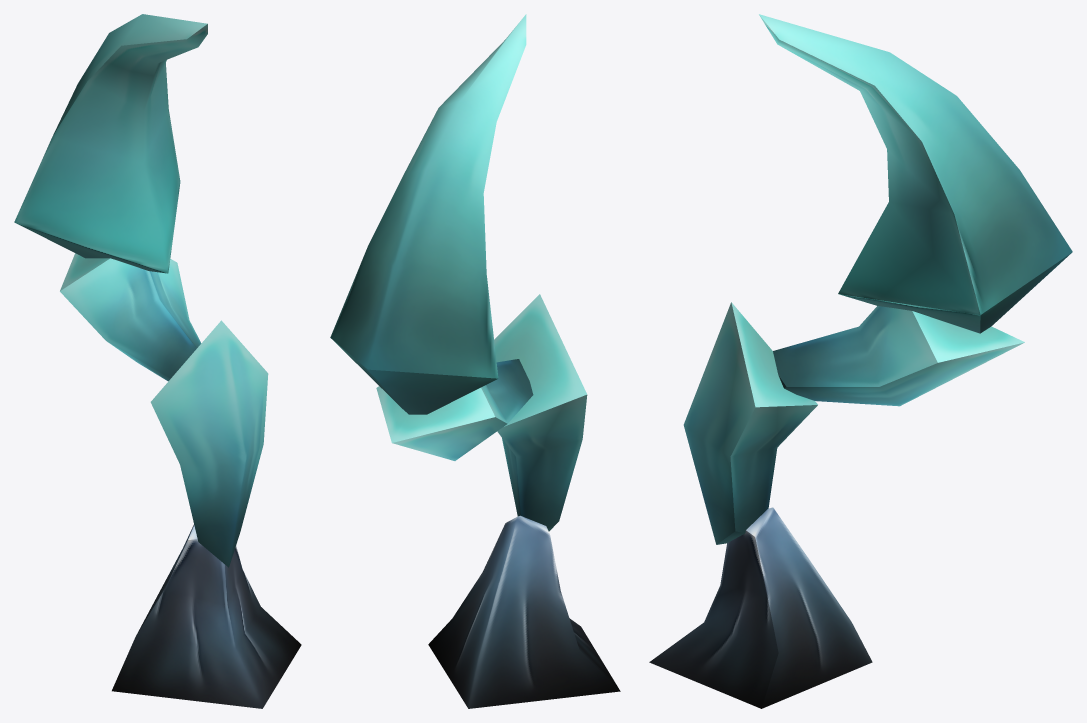
File: DragonVillage_Prop_07.FBX
The picture shows the model from 3 angles, left to right: view 1: azimuth 30°, elevation 25°; view 2: azimuth 150°, elevation 25°; view 3: azimuth 270°, elevation 25°; orthographic projection.
Parts seen in each view (by area): view 1: DragonVillage_Prop_07; view 2: DragonVillage_Prop_07; view 3: DragonVillage_Prop_07.
Boxes of the visible parts, x1,y1,x2,y2 form: DragonVillage_Prop_07: (14,14,301,708); DragonVillage_Prop_07: (330,14,620,708); DragonVillage_Prop_07: (649,14,1072,708).
Bounding box in the file's own units: 166 × 539 × 319.
